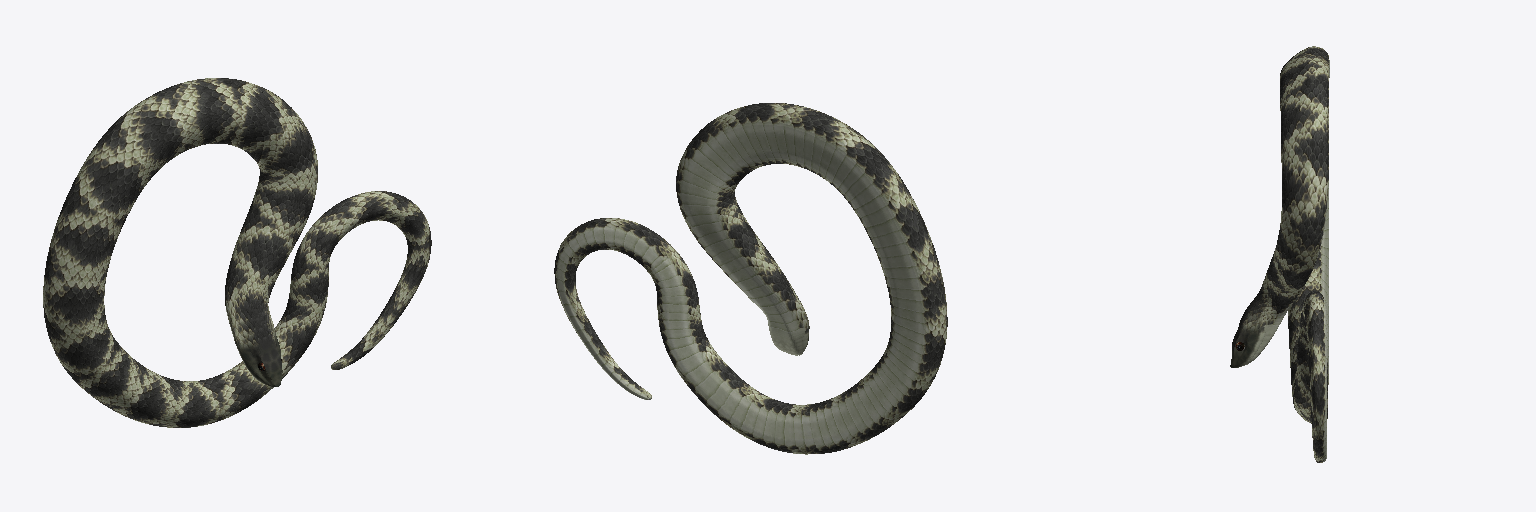
The picture shows the model from 3 angles: view 1: azimuth 30°, elevation 25°; view 2: azimuth 150°, elevation 25°; view 3: azimuth 270°, elevation 25°; orthographic projection.
Parts seen in each view (by area): view 1: Eastern_Hognose_Snake; view 2: Eastern_Hognose_Snake; view 3: Eastern_Hognose_Snake.
Boxes of the visible parts, x1,y1,x2,y2 form: Eastern_Hognose_Snake: [43, 78, 431, 427]; Eastern_Hognose_Snake: [554, 103, 947, 454]; Eastern_Hognose_Snake: [1230, 46, 1329, 462].
Bounding box in the file's own units: 136 × 115 × 30.03.
1 materials, 1 textured.